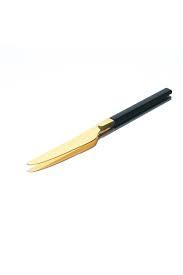Knife: (25, 86, 172, 172)
